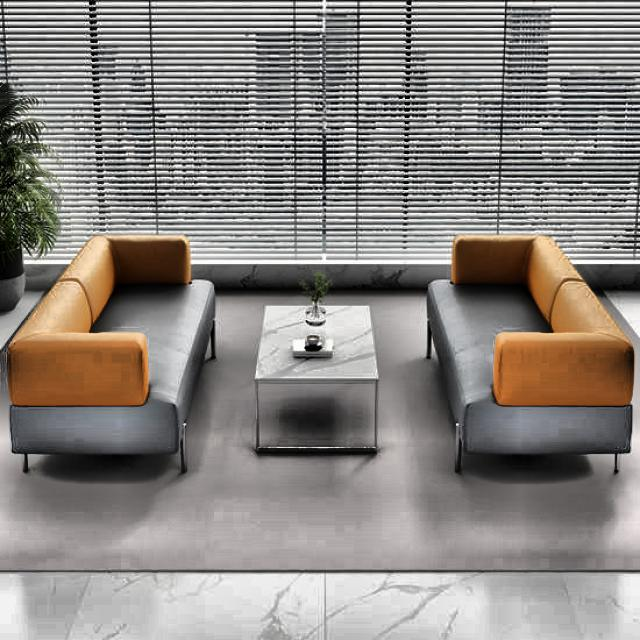sofa: (424, 232, 634, 474), (6, 232, 215, 474)
